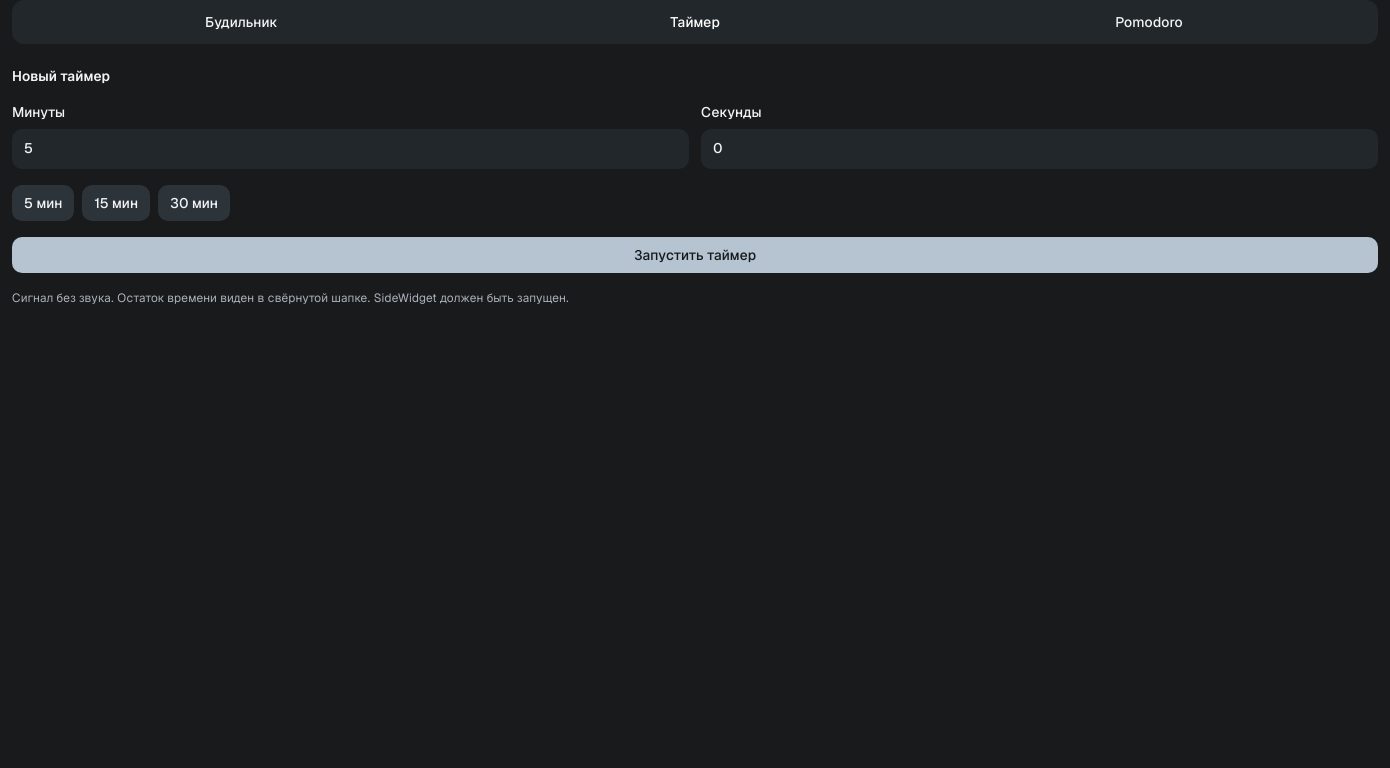
Test: retains simultaneous signals until each one is dismissed
Click the button "Запустить таймер" at (695, 255), box [12,237,1378,273]
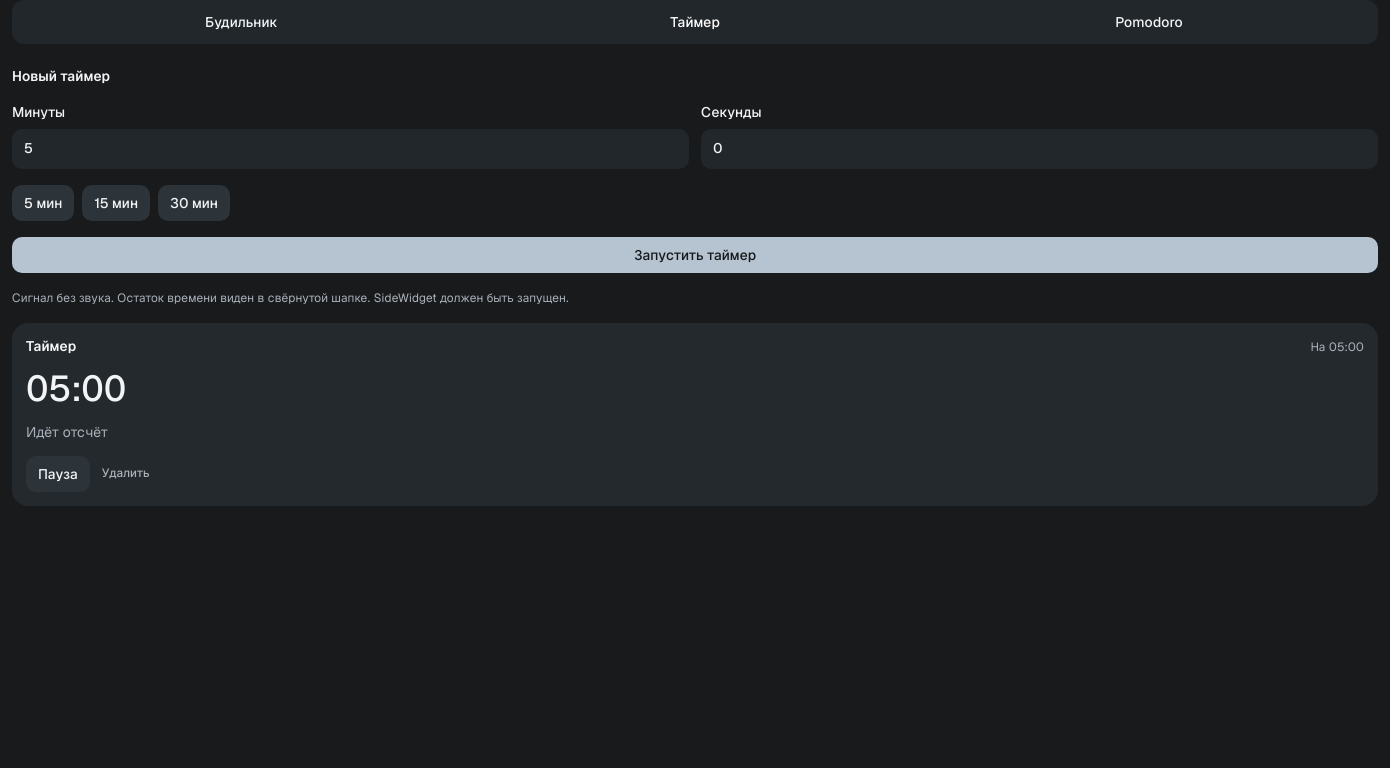
Click the button "Запустить таймер" at (695, 255), box [12,237,1378,273]
Wait 300000 ms
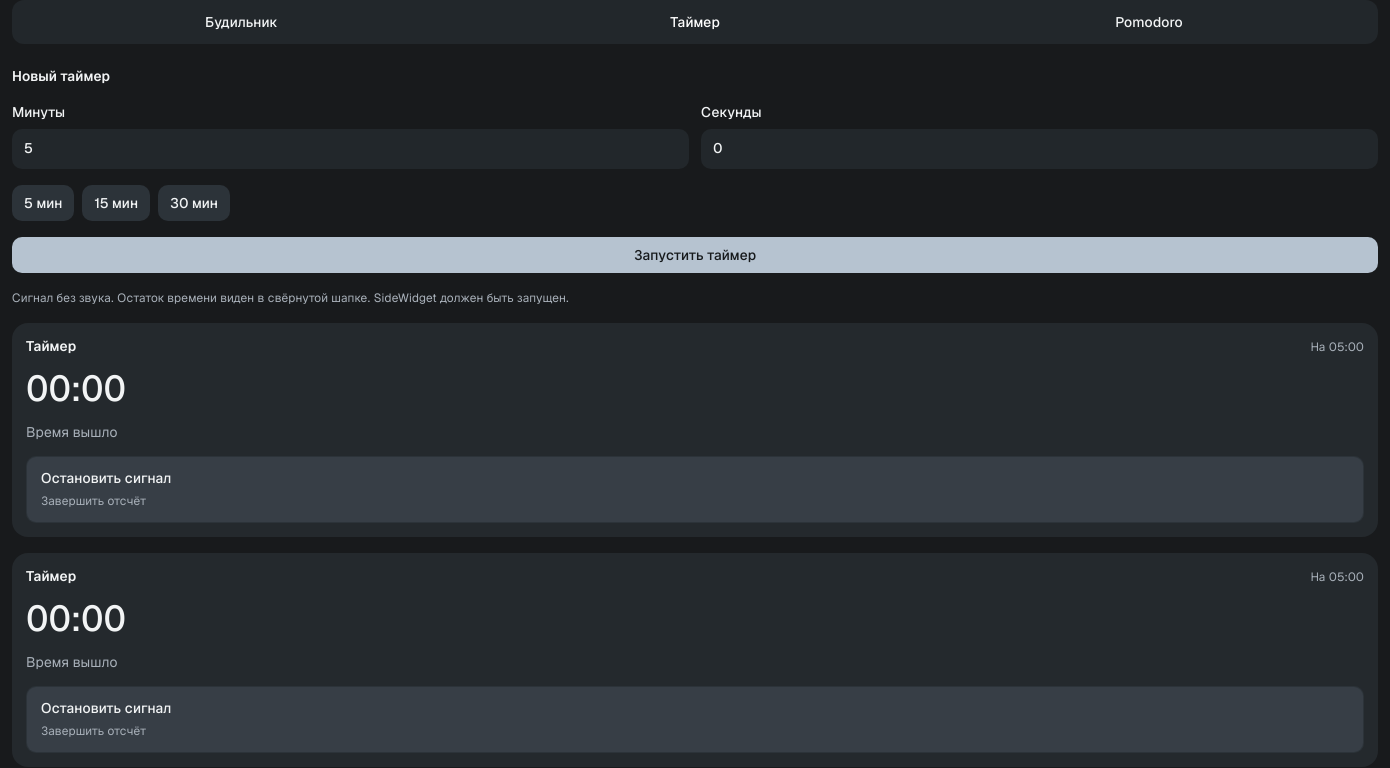
Check: the number of buttons "Остановить сигнал Завершить отсчёт" is 2
Click the 1st button "Остановить сигнал Завершить отсчёт" at (106, 478), box [26,456,1364,523]
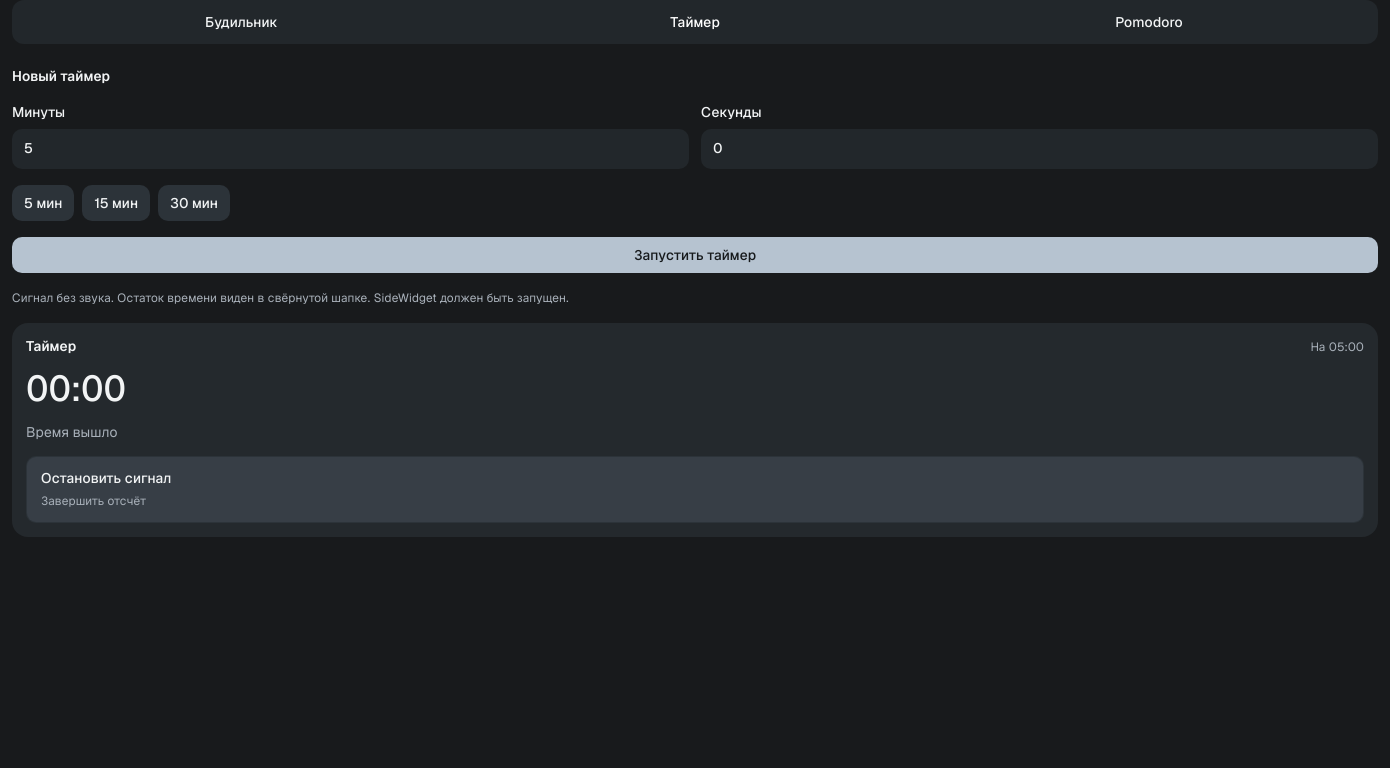
Check: the number of buttons "Остановить сигнал Завершить отсчёт" is 1, box [26,456,1364,523]
